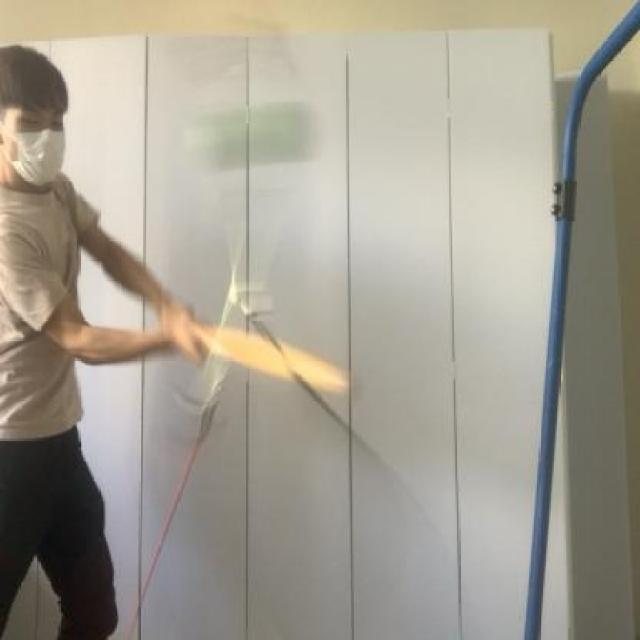baseball: (178, 98, 327, 172)
